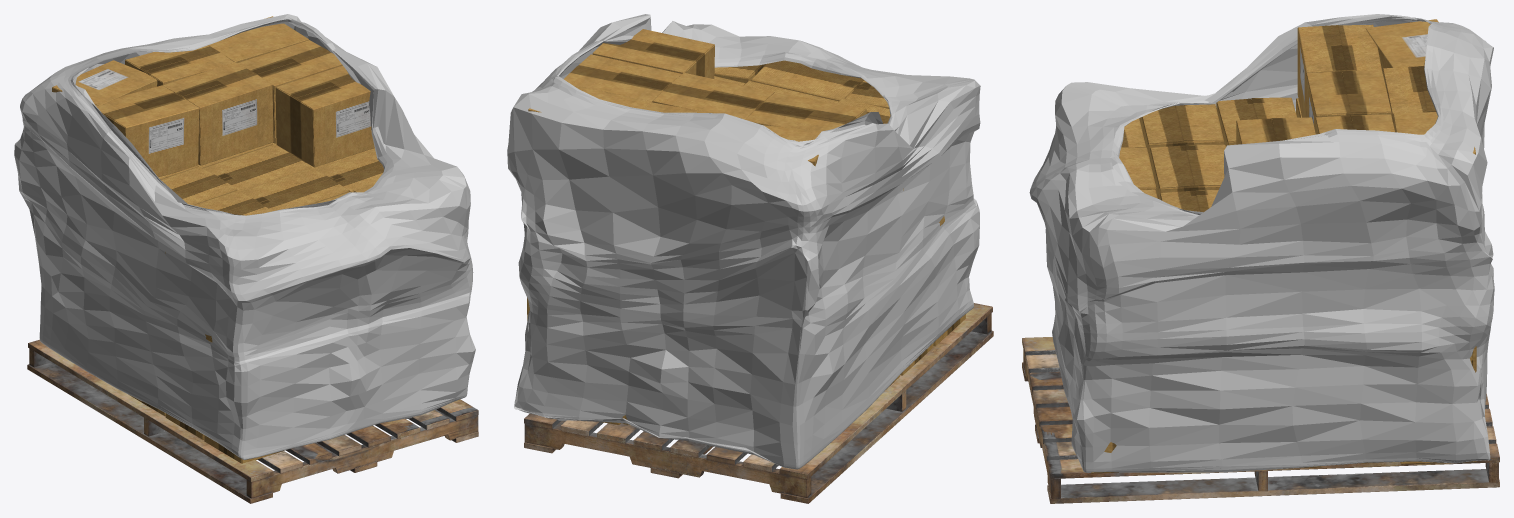
File: box_pallet.dae
3 views of the same model, side by side, from view 1: azimuth 30°, elevation 25°; view 2: azimuth 150°, elevation 25°; view 3: azimuth 270°, elevation 25° (orthographic). The views are drawn at different scales.
Parts seen in each view (by area): view 1: AM200_029_obj_005, AM200_029_obj_098, AM200_029_obj_006, AM200_029_obj_055, AM200_029_obj_057, AM200_029_obj_052, AM200_029_obj_048, AM200_029_obj_004, AM200_029_obj_054, AM200_029_obj_056, AM200_029_obj_053, AM200_029_obj_046 (+2 smaller); view 2: AM200_029_obj_005, AM200_029_obj_098, AM200_029_obj_006, AM200_029_obj_055, AM200_029_obj_052, AM200_029_obj_057, AM200_029_obj_041, AM200_029_obj_053, AM200_029_obj_044, AM200_029_obj_042, AM200_029_obj_056; view 3: AM200_029_obj_005, AM200_029_obj_098, AM200_029_obj_057, AM200_029_obj_055, AM200_029_obj_004, AM200_029_obj_045, AM200_029_obj_056, AM200_029_obj_046, AM200_029_obj_054, AM200_029_obj_006, AM200_029_obj_052, AM200_029_obj_041 (+3 smaller).
Part boxes in pixels (left/top/right/bottom): AM200_029_obj_005: left=14, top=14, right=475, bottom=460; AM200_029_obj_098: left=27, top=339, right=478, bottom=503; AM200_029_obj_006: left=275, top=65, right=374, bottom=167; AM200_029_obj_055: left=163, top=62, right=273, bottom=165; AM200_029_obj_057: left=95, top=85, right=199, bottom=177; AM200_029_obj_052: left=237, top=40, right=342, bottom=143; AM200_029_obj_048: left=203, top=144, right=311, bottom=191; AM200_029_obj_004: left=241, top=168, right=348, bottom=210; AM200_029_obj_054: left=125, top=45, right=234, bottom=86; AM200_029_obj_056: left=52, top=60, right=157, bottom=105; AM200_029_obj_053: left=208, top=16, right=308, bottom=62; AM200_029_obj_046: left=161, top=167, right=237, bottom=205; AM200_029_obj_005: left=507, top=14, right=980, bottom=469; AM200_029_obj_098: left=524, top=303, right=993, bottom=503; AM200_029_obj_006: left=592, top=29, right=714, bottom=78; AM200_029_obj_055: left=652, top=72, right=774, bottom=119; AM200_029_obj_052: left=564, top=54, right=681, bottom=102; AM200_029_obj_057: left=745, top=92, right=866, bottom=130; AM200_029_obj_041: left=751, top=60, right=863, bottom=101; AM200_029_obj_053: left=528, top=84, right=651, bottom=112; AM200_029_obj_044: left=846, top=80, right=944, bottom=225; AM200_029_obj_042: left=714, top=64, right=766, bottom=83; AM200_029_obj_056: left=764, top=125, right=822, bottom=166; AM200_029_obj_005: left=1029, top=14, right=1494, bottom=472; AM200_029_obj_098: left=1022, top=337, right=1499, bottom=503; AM200_029_obj_057: left=1297, top=24, right=1381, bottom=117; AM200_029_obj_055: left=1306, top=70, right=1391, bottom=132; AM200_029_obj_004: left=1150, top=144, right=1225, bottom=199; AM200_029_obj_045: left=1139, top=104, right=1224, bottom=159; AM200_029_obj_056: left=1365, top=19, right=1438, bottom=73; AM200_029_obj_046: left=1216, top=97, right=1297, bottom=146; AM200_029_obj_054: left=1383, top=65, right=1435, bottom=122; AM200_029_obj_006: left=1236, top=117, right=1315, bottom=144; AM200_029_obj_052: left=1315, top=114, right=1394, bottom=134; AM200_029_obj_041: left=1119, top=147, right=1156, bottom=192.
Size of the model in its own units: 117 by 141 by 117.
